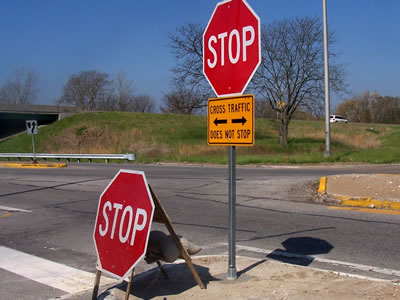stop: (97, 176, 150, 264), (205, 8, 258, 85)
